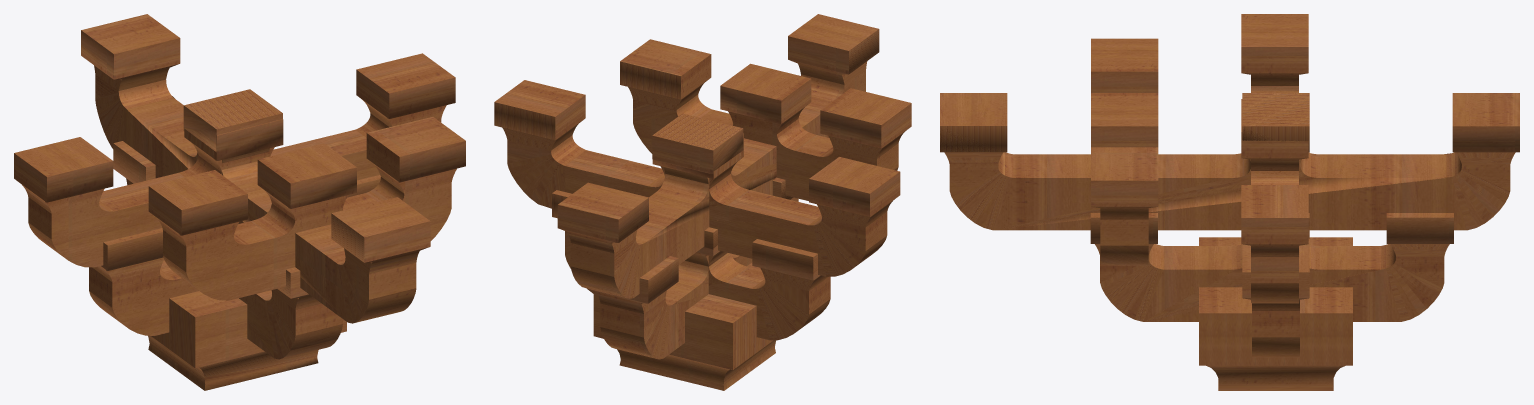
3 views of the same model, side by side, from view 1: azimuth 30°, elevation 25°; view 2: azimuth 150°, elevation 25°; view 3: azimuth 270°, elevation 25° (orthographic). The views are drawn at different scales.
Parts seen in each view (by area): view 1: R3L2; view 2: R3L2; view 3: R3L2.
Boxes of the visible parts, x1,y1,x2,y2 form: R3L2: [14, 14, 465, 390]; R3L2: [494, 14, 911, 390]; R3L2: [940, 14, 1519, 390].
Size of the model in its own units: 32.36 by 18.71 by 38.85.
Materials: 1 (1 with a texture image).
